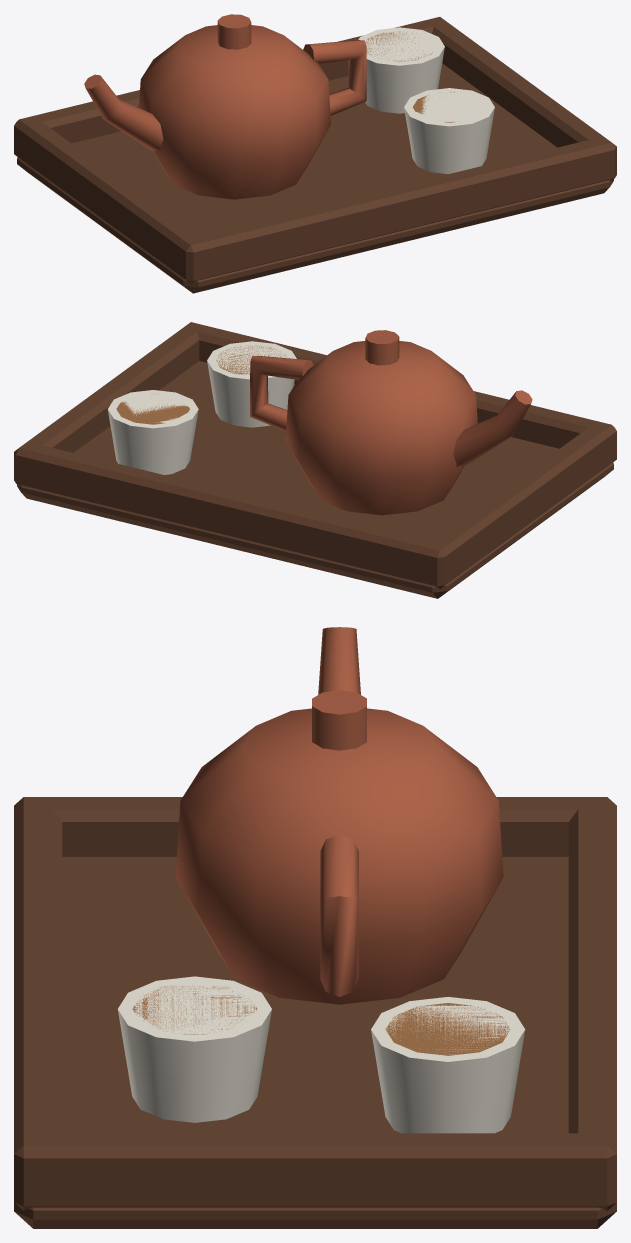
Rendered from tea_set_tray.glb.
3 views of the same model, one above another, from view 1: azimuth 30°, elevation 25°; view 2: azimuth 150°, elevation 25°; view 3: azimuth 270°, elevation 25° (orthographic). The views are drawn at different scales.
Visible parts, largest first — view 1: tea_set_tray; view 2: tea_set_tray; view 3: tea_set_tray.
Boxes of the visible parts, x1,y1,x2,y2 form: tea_set_tray: (14,14,616,293); tea_set_tray: (14,322,616,598); tea_set_tray: (14,627,616,1228).
Size of the model in its own units: 0.356 by 0.135 by 0.25.
